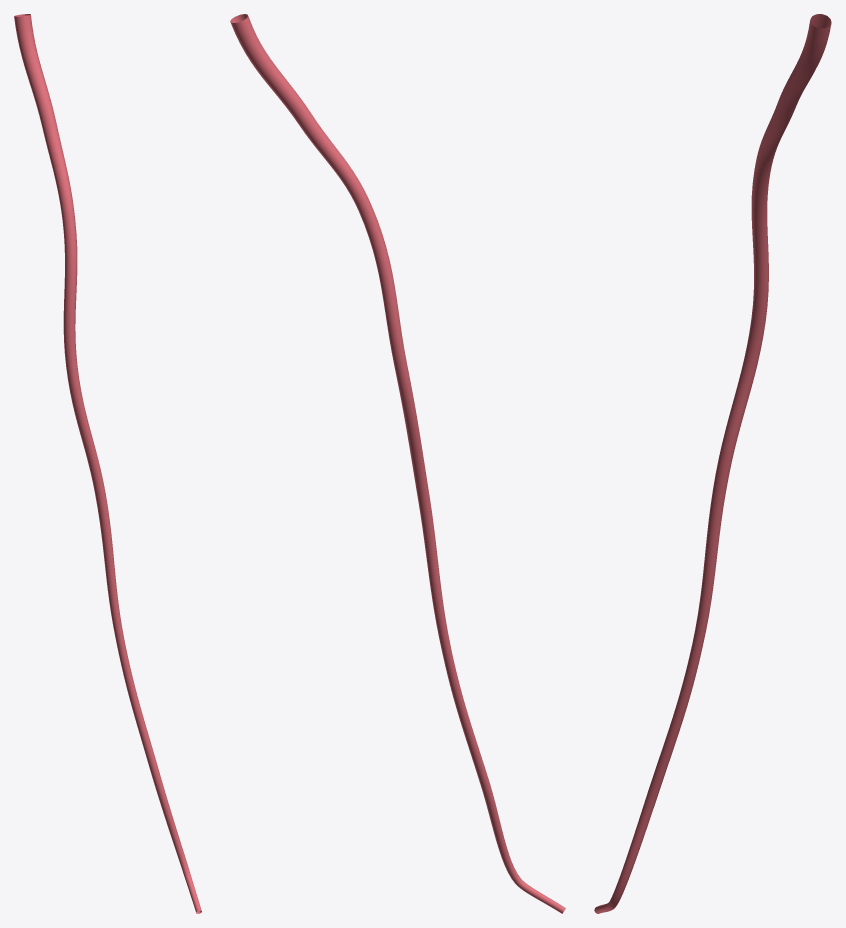
The picture shows the model from 3 angles, left to right: view 1: azimuth 90°, elevation 25°; view 2: azimuth 150°, elevation 25°; view 3: azimuth 270°, elevation 25°; orthographic projection. The views are drawn at different scales.
Parts seen in each view (by area): view 1: ZA_779fb7a3f3752b1e; view 2: ZA_779fb7a3f3752b1e; view 3: ZA_779fb7a3f3752b1e.
Part boxes in pixels (left/top/right/bottom): ZA_779fb7a3f3752b1e: left=14, top=14, right=201, bottom=913; ZA_779fb7a3f3752b1e: left=230, top=14, right=565, bottom=913; ZA_779fb7a3f3752b1e: left=594, top=14, right=831, bottom=913.
Size of the model in its own units: 0.0556 by 0.2081 by 0.044.
